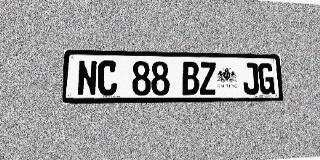8: (132, 61, 151, 96), (151, 61, 169, 95)
B: (182, 62, 199, 95)
C: (98, 60, 117, 96)
G: (258, 63, 275, 94)
J: (242, 63, 259, 95)
N: (77, 60, 97, 96)
Z: (199, 62, 217, 95)
